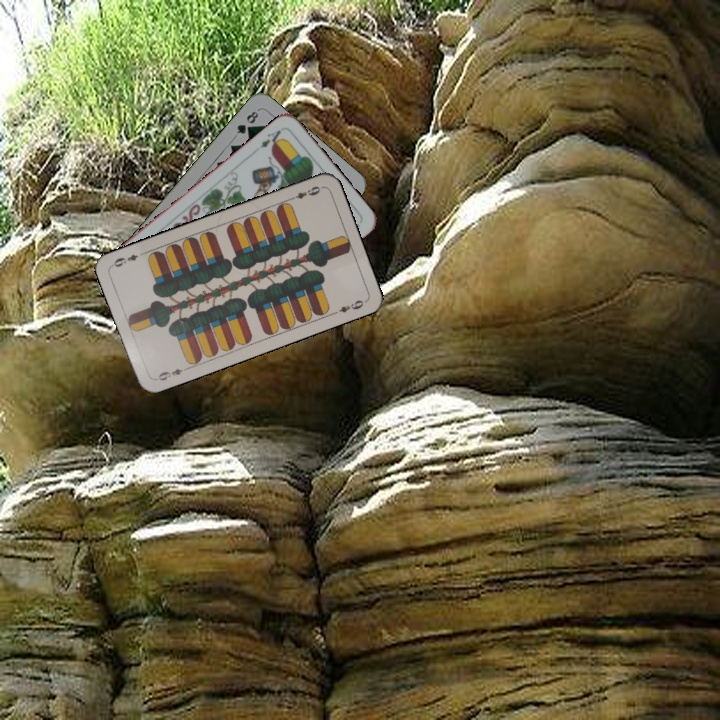E9: (285, 182, 325, 203), (151, 363, 191, 383)
EA: (256, 126, 285, 152)
G8: (232, 107, 261, 136)
